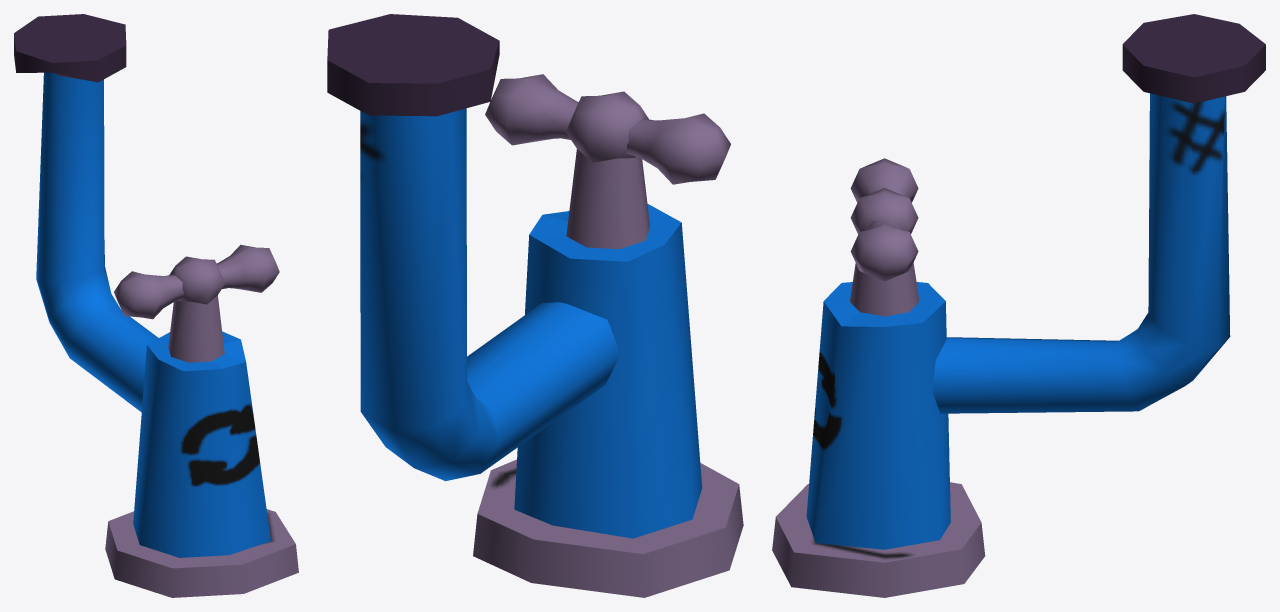
File: Tap_.fbx
3 renders of one model, left to right at view 1: azimuth 30°, elevation 25°; view 2: azimuth 150°, elevation 25°; view 3: azimuth 270°, elevation 25°, orthographic. The views are drawn at different scales.
Visible parts, largest first — view 1: tap; view 2: tap; view 3: tap.
Boxes of the visible parts, bbox=[...] form: tap: bbox=[14, 14, 298, 597]; tap: bbox=[327, 14, 743, 597]; tap: bbox=[772, 14, 1265, 597].
Bounding box in the file's own units: 0.1717 × 0.4264 × 0.3764.
